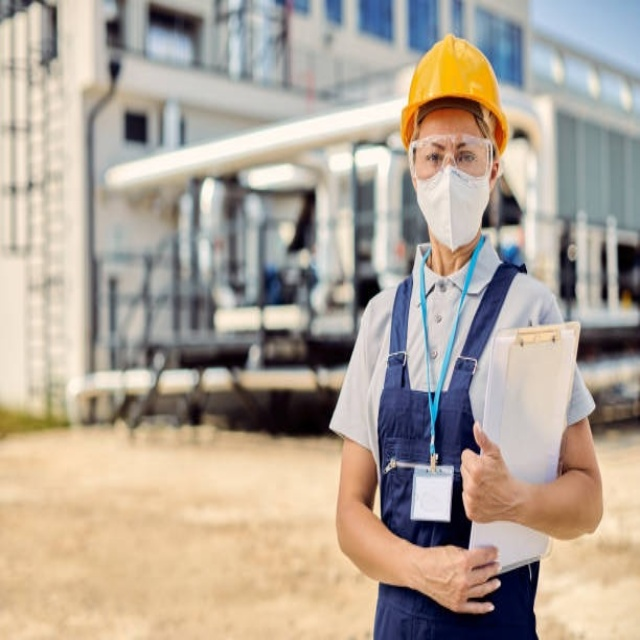Gafas: (409, 135, 493, 180)
Mascara: (412, 141, 492, 252)
Sin_guantes: (458, 418, 522, 525), (414, 543, 503, 616)
